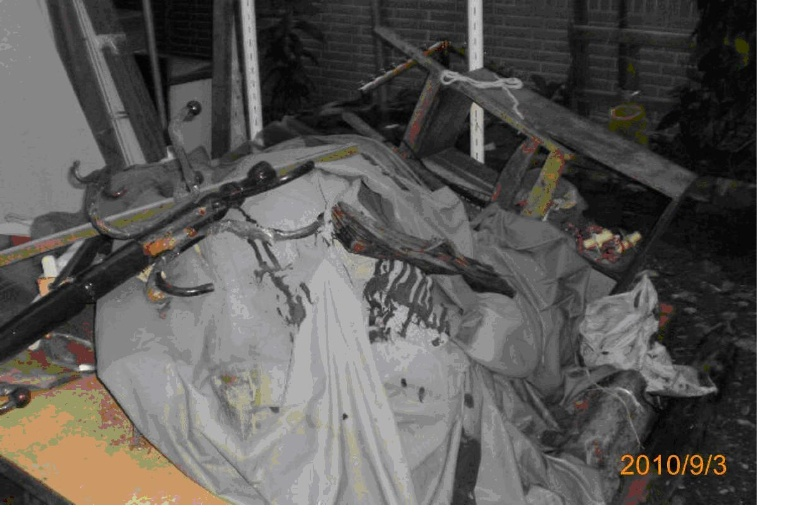plastic_bag: (208, 185, 714, 503)
